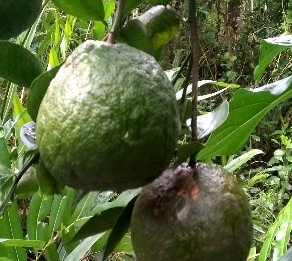Cam: (28, 40, 184, 193)
